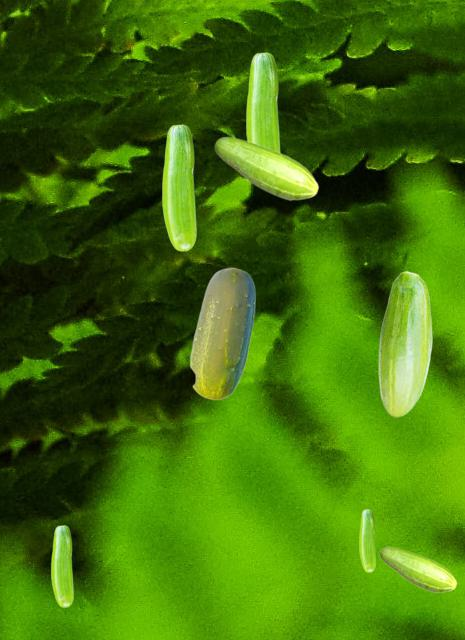cucumber: (189, 267, 254, 399), (378, 271, 431, 416), (214, 136, 318, 200), (162, 124, 195, 250), (379, 546, 456, 592), (246, 52, 279, 150), (51, 525, 72, 606), (359, 509, 374, 571)
